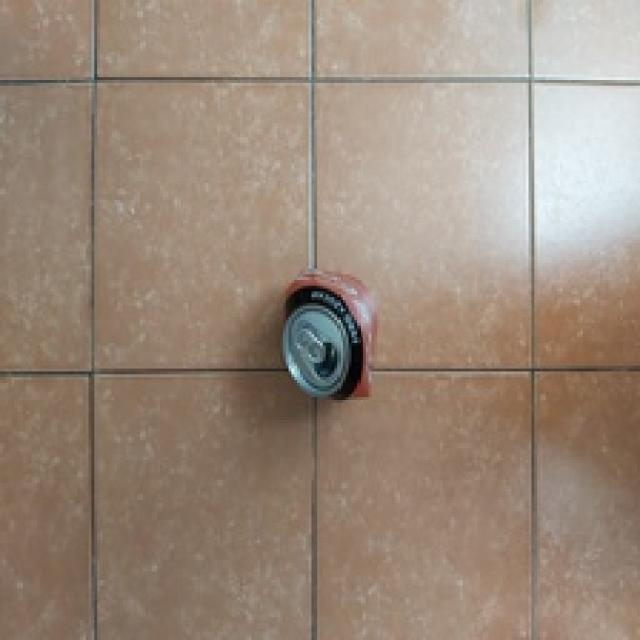recyclable: (280, 268, 380, 403)
